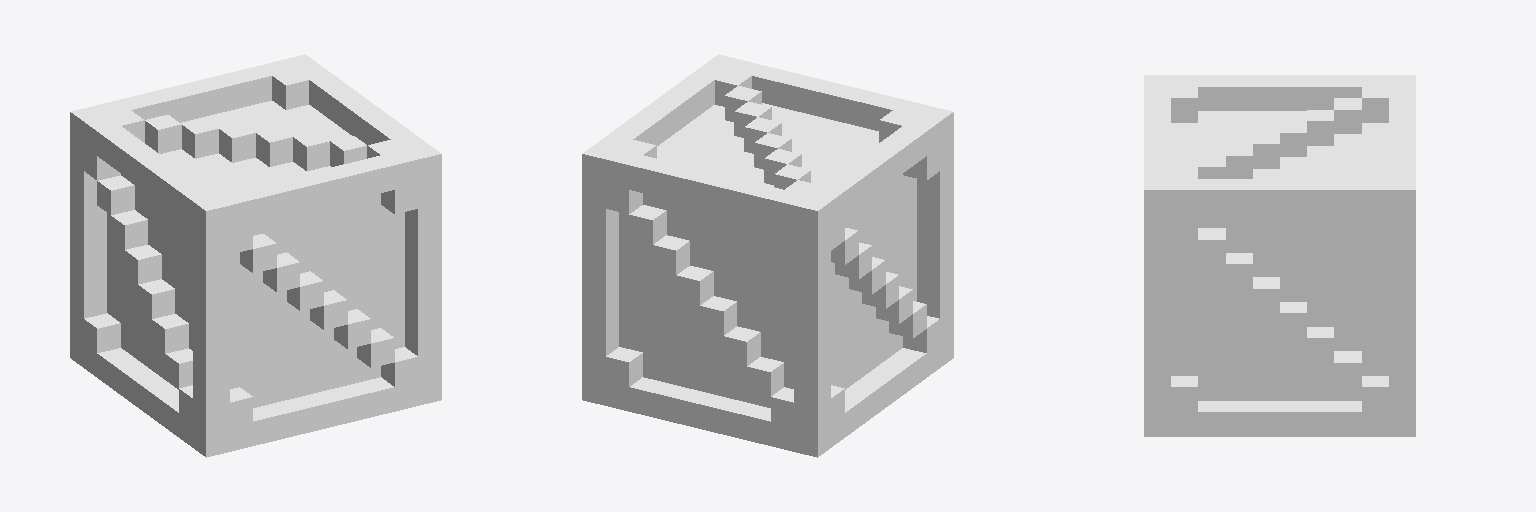
File: example_model.obj
3 renders of one model, left to right at view 1: azimuth 30°, elevation 25°; view 2: azimuth 150°, elevation 25°; view 3: azimuth 270°, elevation 25°, orthographic.
Visible parts, largest first — view 1: object 1; view 2: object 1; view 3: object 1.
Part boxes in pixels (bbox=[...]): object 1: bbox=[70, 54, 441, 457]; object 1: bbox=[582, 54, 953, 457]; object 1: bbox=[1144, 75, 1415, 436].
Bounding box in the file's own units: 1 × 1 × 1.